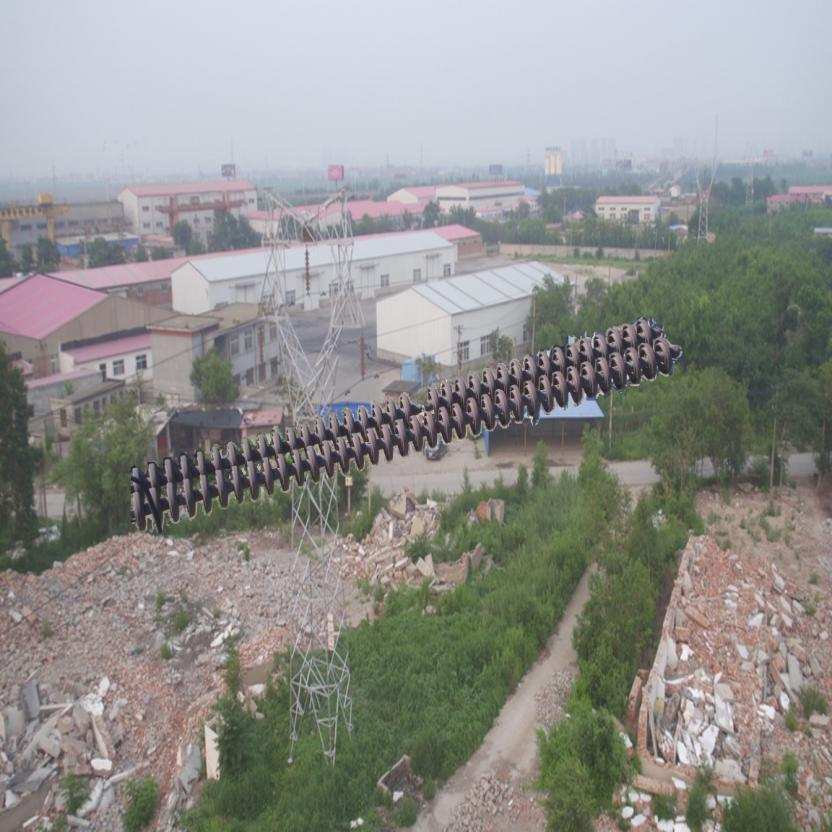defect: (395, 382, 441, 418)
